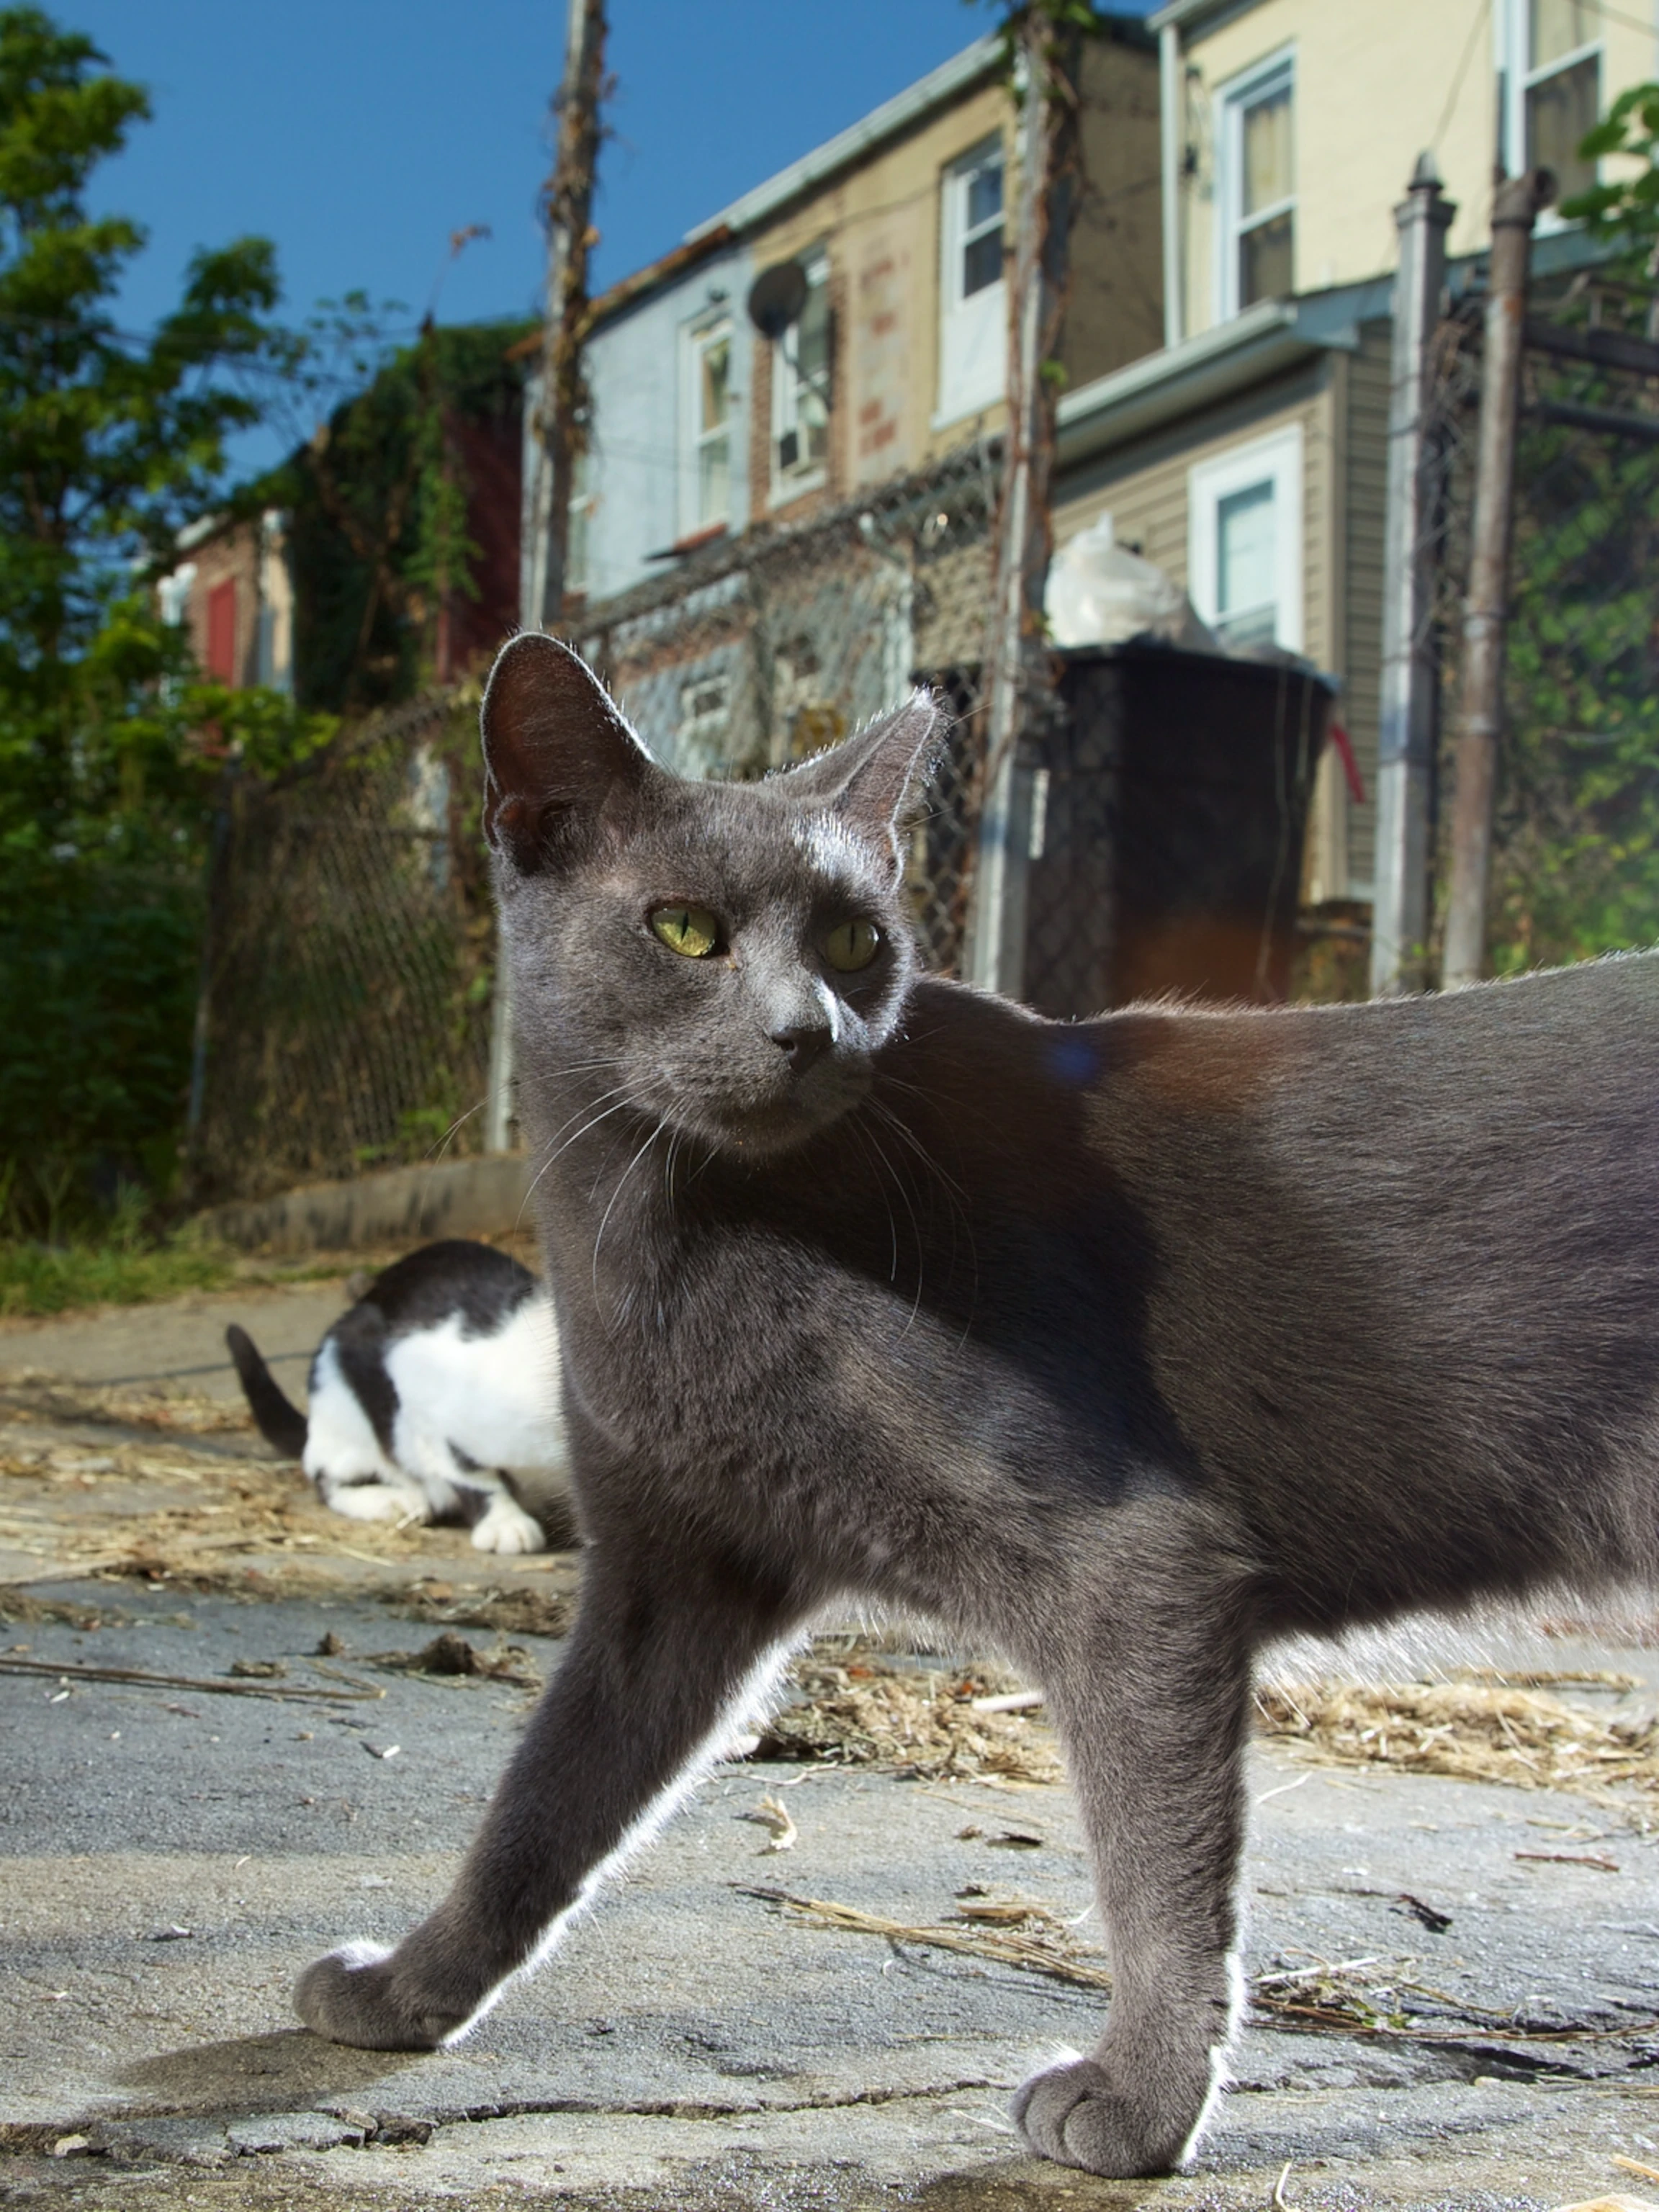Cat: (380, 540, 1659, 2123)
